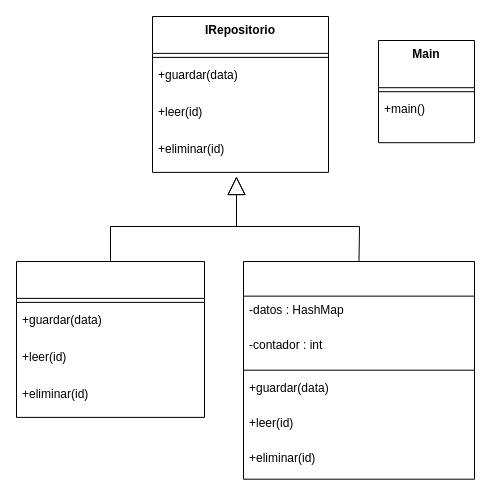
Image size: 491x496. Some labels were removed from this diagram. Here are the shapes that lost their labels. From the top down, the box of each, then its label:
(16, 260, 204, 417): RepositorioSQL
(242, 260, 474, 479): RepositorioEnMemoria
